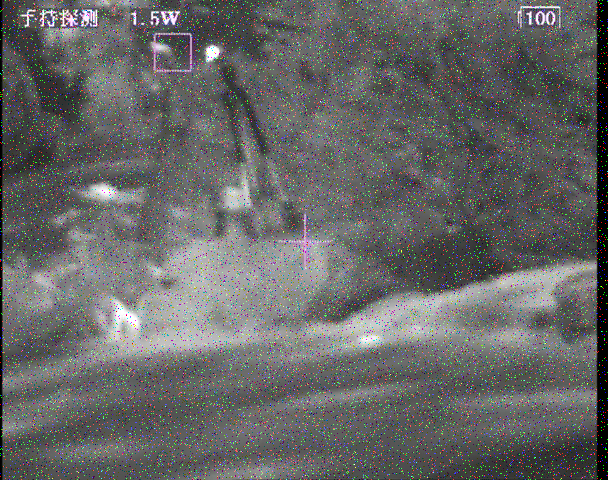my: (204, 43, 220, 63)
